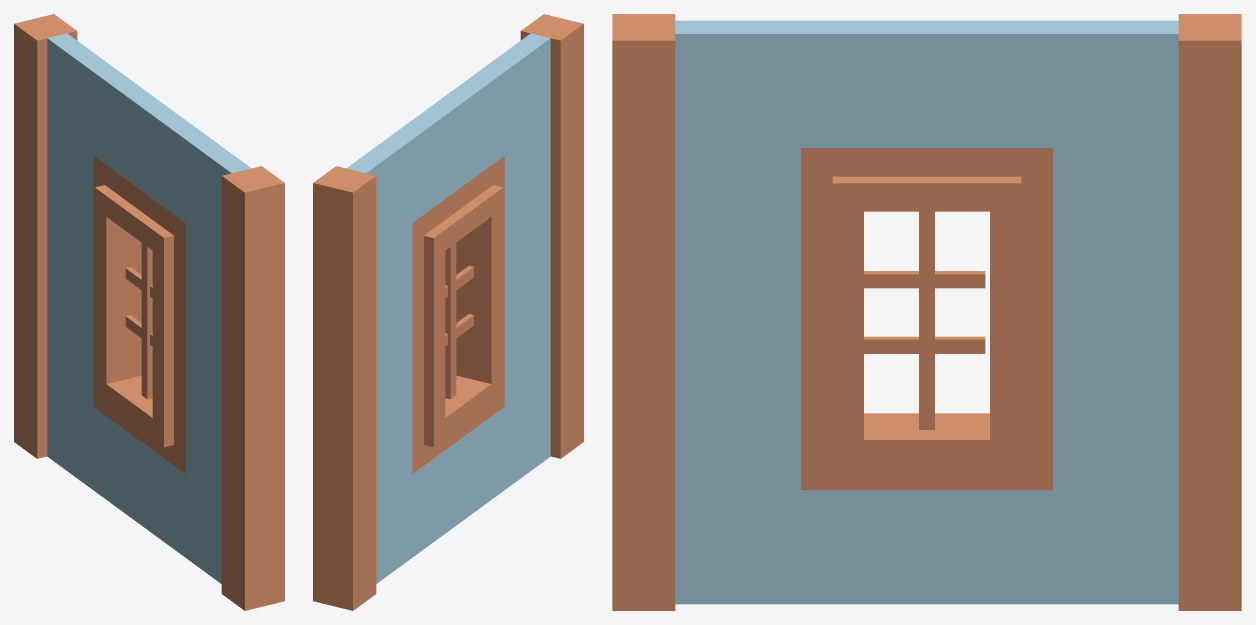
The model's file is wallWindowGlass.fbx.
3 views of the same model, side by side, from view 1: azimuth 30°, elevation 25°; view 2: azimuth 150°, elevation 25°; view 3: azimuth 270°, elevation 25° (orthographic). The views are drawn at different scales.
Visible parts, largest first — view 1: wallWindowGlass, detail; view 2: wallWindowGlass, detail; view 3: wallWindowGlass, detail.
Boxes of the visible parts, x1,y1,x2,y2 form: wallWindowGlass: (14, 14, 284, 610); detail: (125, 243, 152, 399); wallWindowGlass: (313, 14, 583, 610); detail: (445, 243, 473, 399); wallWindowGlass: (612, 14, 1241, 610); detail: (864, 211, 985, 429).
Size of the model in its own units: 1 by 10 by 10.
